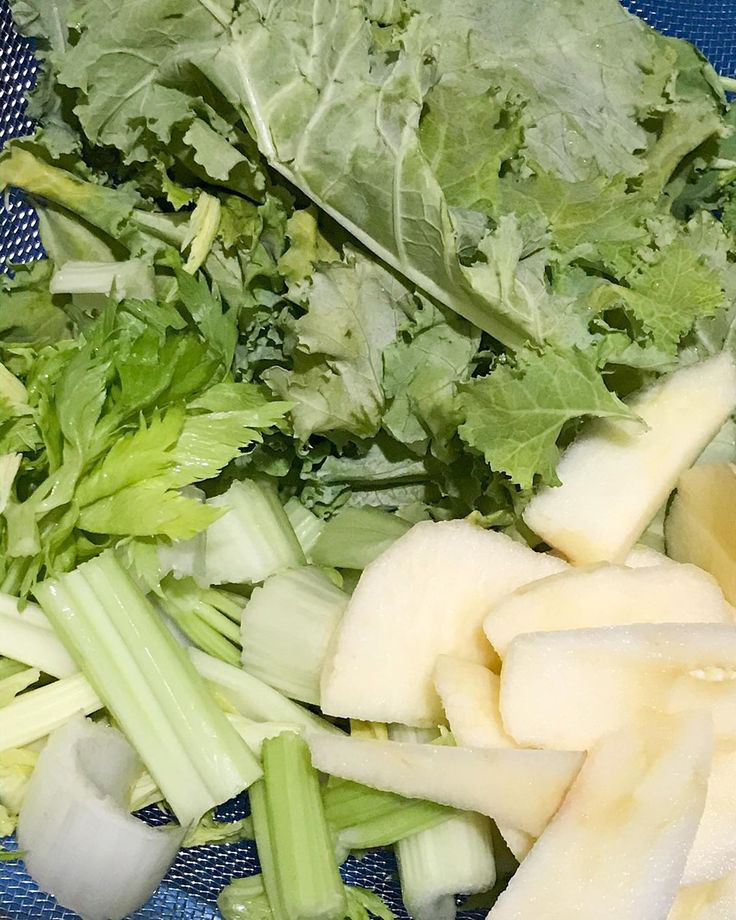Seledri: (105, 127, 708, 848)
